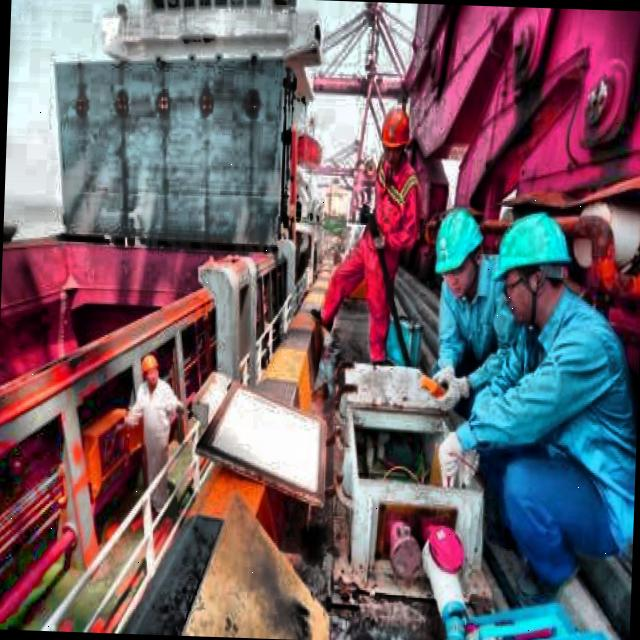helmet: (488, 202, 576, 330), (433, 204, 488, 298), (375, 102, 416, 178), (137, 351, 161, 388)
